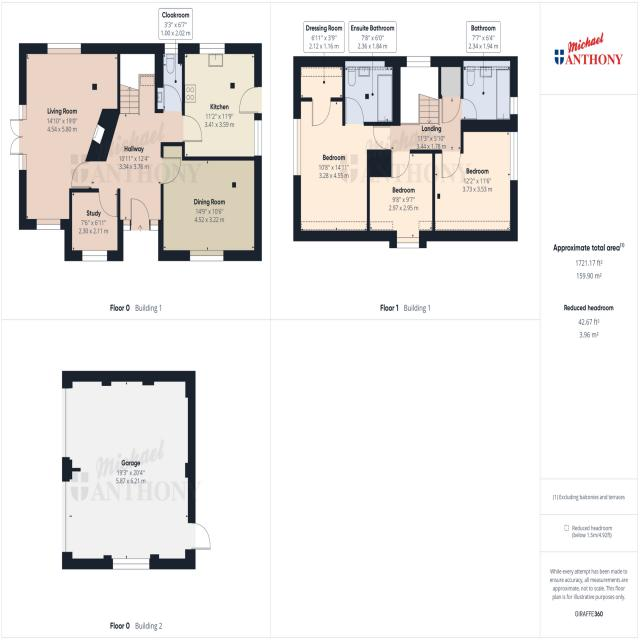DOOR: (71, 159, 107, 190), (239, 85, 262, 114), (130, 198, 150, 231), (344, 96, 365, 126), (182, 114, 203, 143), (441, 149, 461, 179), (391, 149, 411, 179), (311, 97, 331, 127), (98, 188, 118, 218), (161, 156, 181, 185), (163, 84, 183, 113), (372, 125, 392, 151), (460, 98, 478, 121)
DOUBLE DOOR: (10, 118, 27, 155)
ROOM: (10, 43, 121, 230), (293, 95, 391, 242), (158, 141, 262, 262), (432, 119, 518, 242), (182, 43, 262, 161), (366, 149, 435, 248), (64, 188, 124, 262)
WINDOW: (293, 118, 302, 176), (189, 250, 224, 262), (47, 43, 82, 55), (510, 131, 518, 181), (253, 119, 262, 157), (396, 236, 420, 249), (82, 250, 108, 262), (406, 56, 431, 68), (36, 218, 61, 230), (199, 43, 225, 54), (164, 43, 179, 55), (510, 96, 518, 115), (19, 154, 27, 171), (19, 104, 27, 120), (150, 219, 159, 231), (123, 219, 130, 231)
